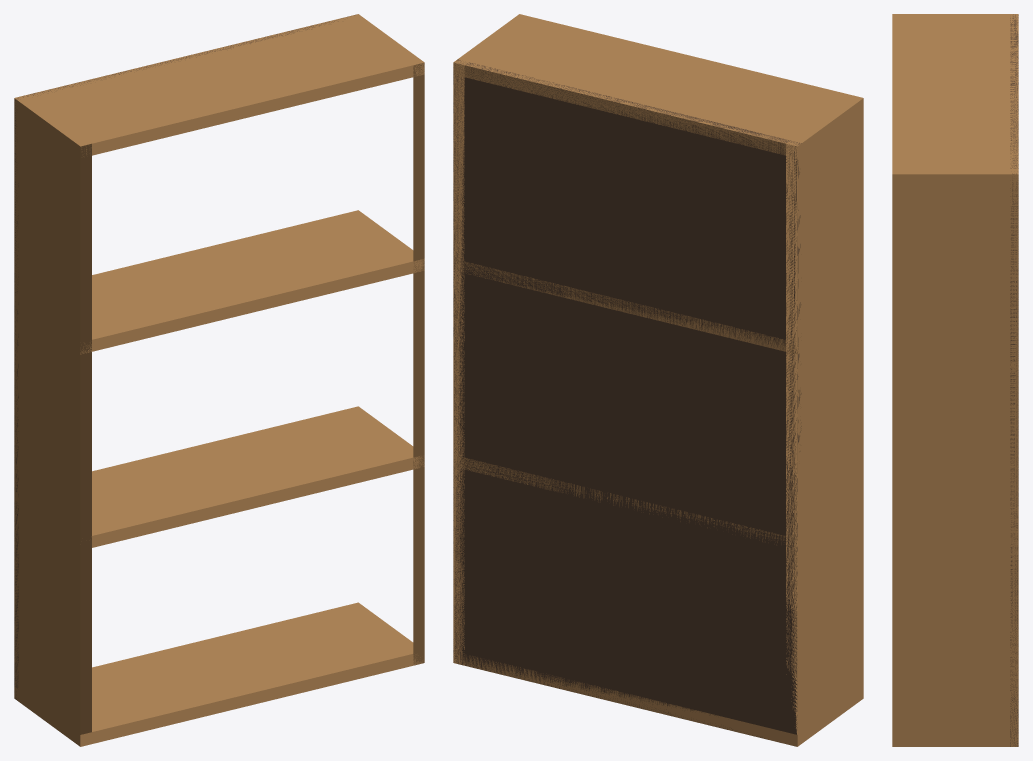
Rendered from shelf.glb.
The picture shows the model from 3 angles, left to right: view 1: azimuth 30°, elevation 25°; view 2: azimuth 150°, elevation 25°; view 3: azimuth 270°, elevation 25°; orthographic projection. The views are drawn at different scales.
Bounding box in the file's own units: 0.9 × 1.5 × 0.3.
